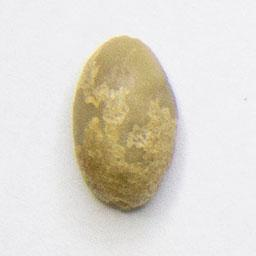longberry: (69, 31, 183, 216)
